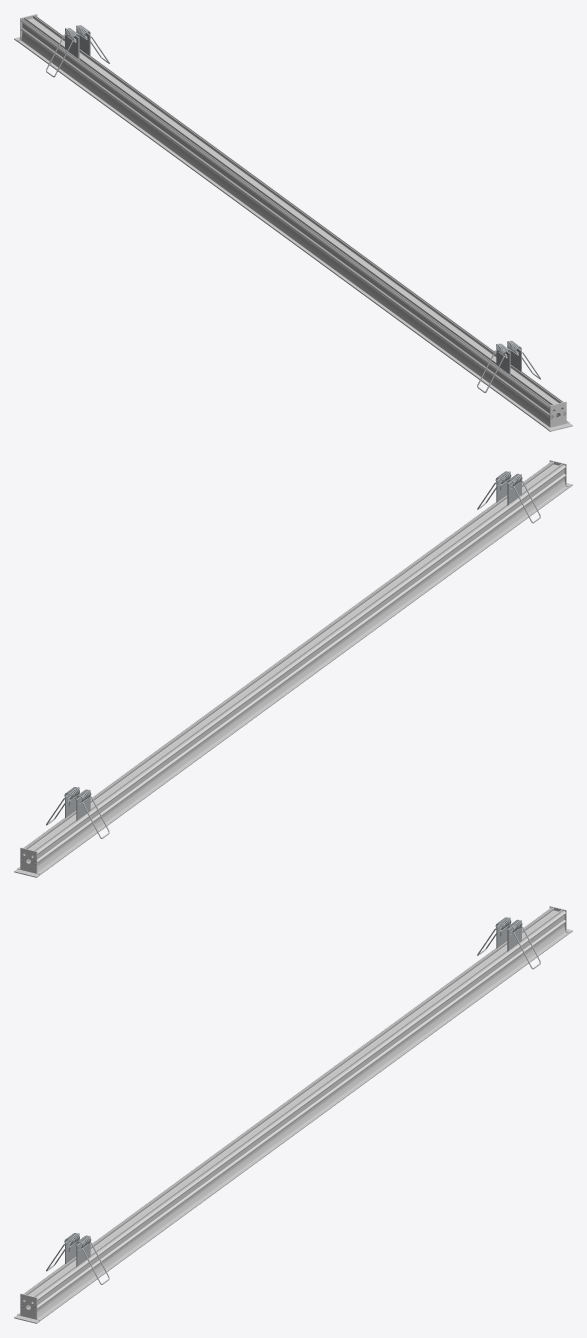
Rendered from Fit15StandardEmbutido.glb.
3 views of the same model, one above another, from view 1: azimuth 30°, elevation 25°; view 2: azimuth 150°, elevation 25°; view 3: azimuth 330°, elevation 25° (orthographic).
Visible parts, largest first — view 1: 3DGeom-1; view 2: 3DGeom-1; view 3: 3DGeom-1.
Part boxes in pixels (x1,y1,x2,y2): 3DGeom-1: (17,15,568,428); 3DGeom-1: (18,461,569,874); 3DGeom-1: (18,907,569,1320).
Size of the model in its own units: 0.0621 by 0.0478 by 1.02.
Materials: 3 (1 with a texture image).
